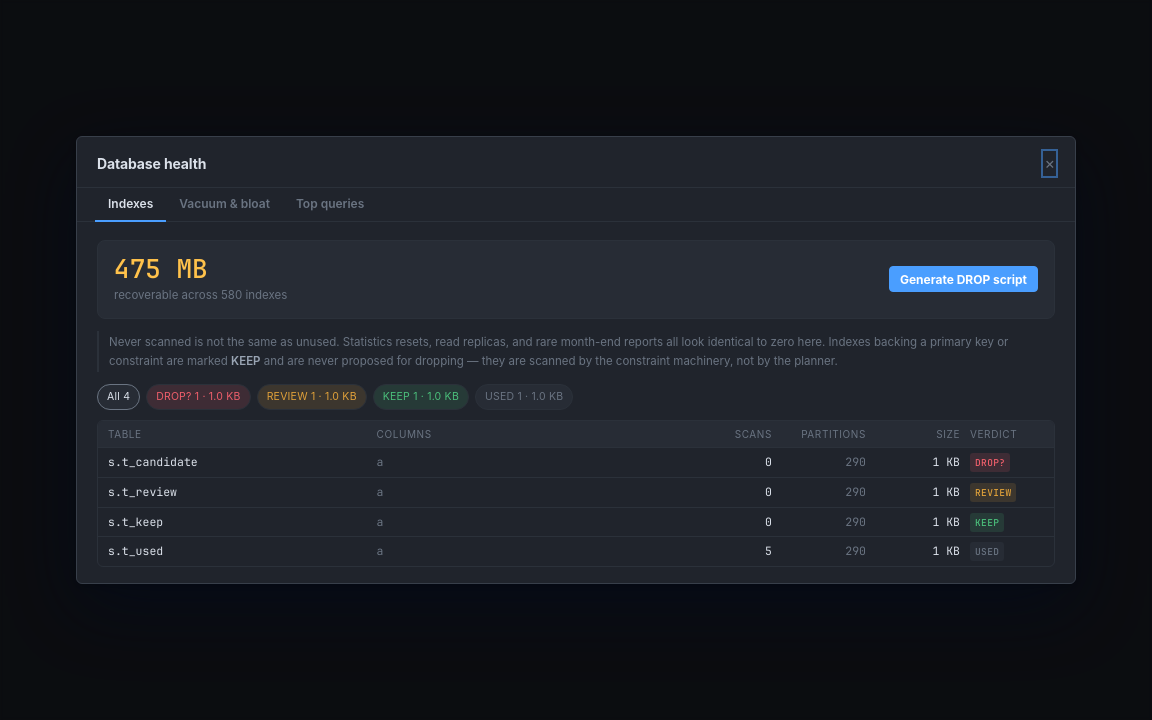
Scenario: HealthModal — indexes › filters to one verdict when its chip is clicked
Click the button "DROP? 1 · 1.0 KB".
click(198, 397)  # box [146,384,251,410]
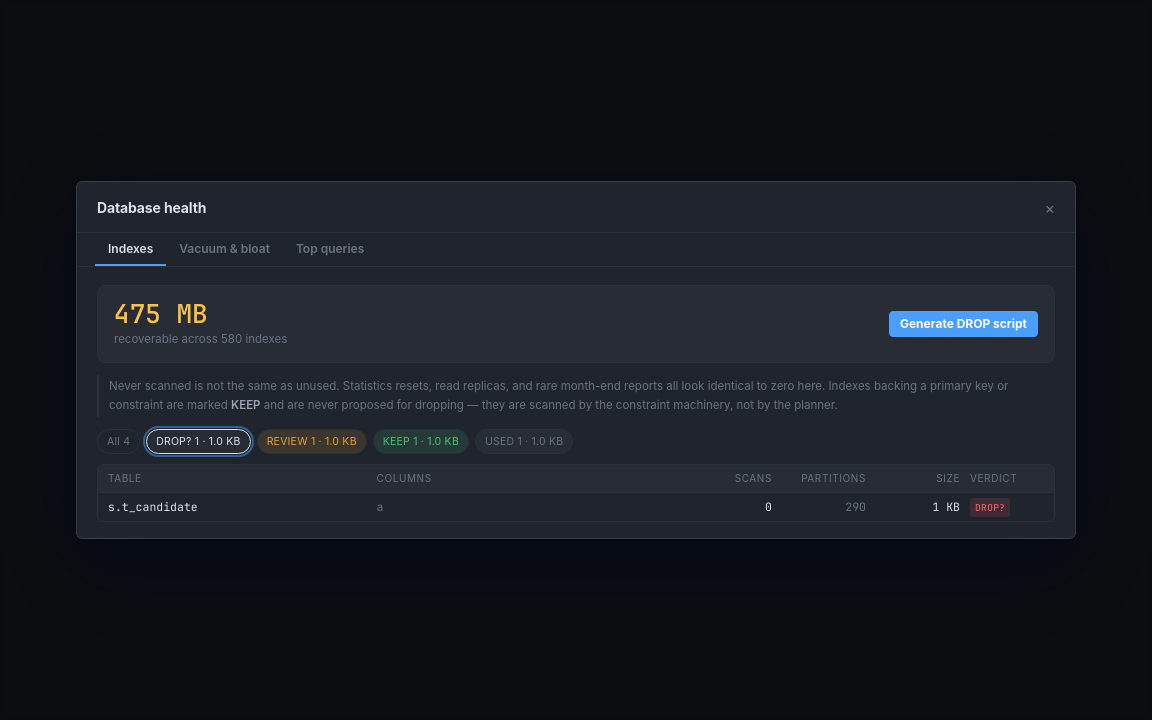
Expected: the text "DROP?" is shown, [970,498,1010,517]
Now the number of elements titled "because" is 1, box [98,493,1054,521]
